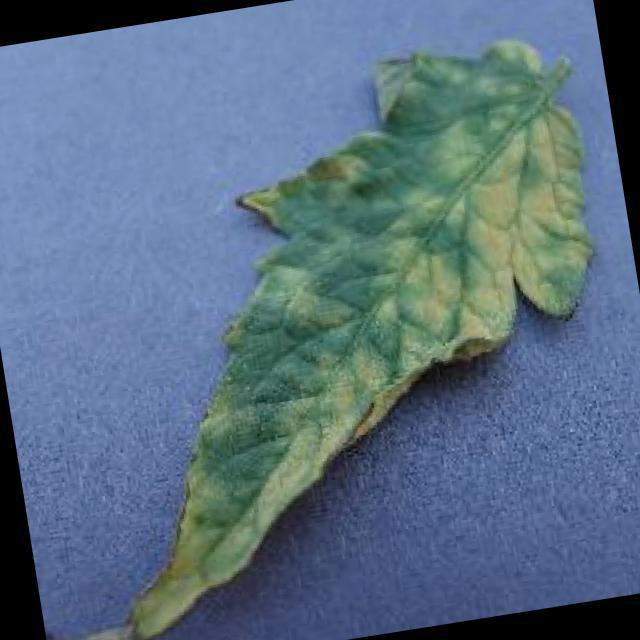Tomato mold leaf: (34, 18, 640, 640)
